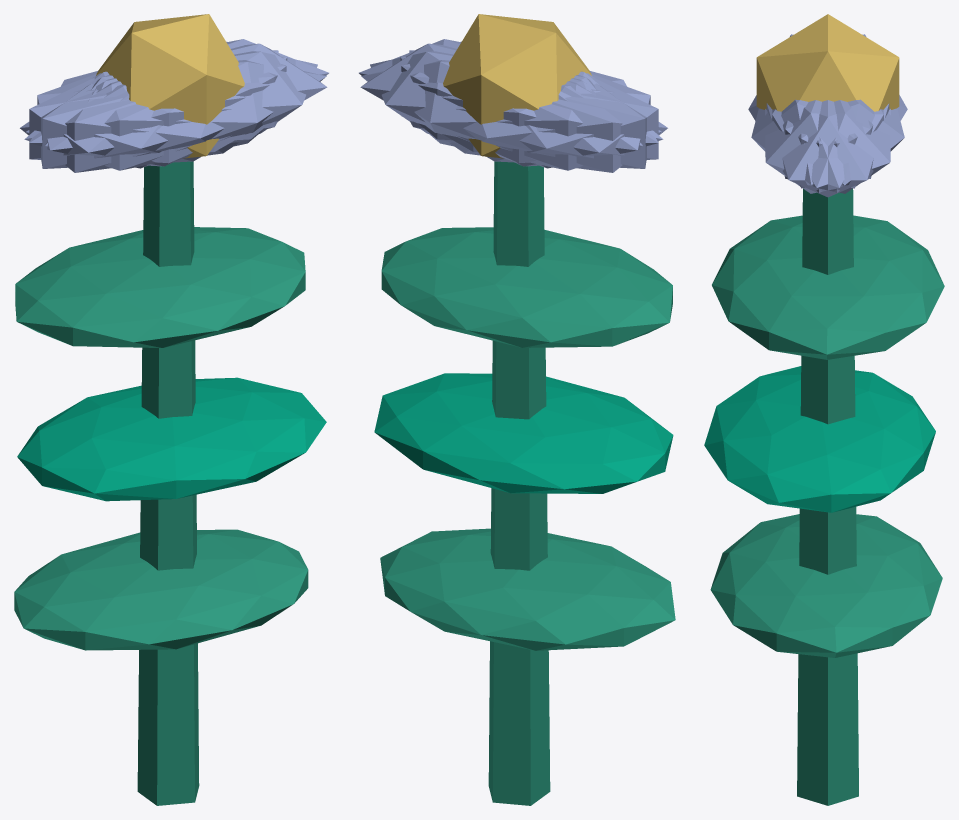
The model's file is sterculia-foetida.glb.
3 views of the same model, side by side, from view 1: azimuth 30°, elevation 25°; view 2: azimuth 150°, elevation 25°; view 3: azimuth 270°, elevation 25° (orthographic).
Visible parts, largest first — view 1: leaf1, leaf2, leaf0, stem, center, petal1, petal6, petal2, petal5, petal7, petal0, petal4 (+2 smaller); view 2: leaf2, leaf0, leaf1, stem, center, petal8, petal3, petal7, petal4, petal2, petal0, petal5 (+2 smaller); view 3: leaf2, leaf1, leaf0, stem, center, petal0, petal4, petal5, petal1, petal8.
Boxes of the visible parts, x1,y1,x2,y2 form: leaf1: (17, 377, 326, 501); leaf2: (15, 227, 305, 347); leaf0: (14, 529, 308, 650); stem: (137, 161, 199, 805); center: (96, 14, 244, 158); petal1: (24, 60, 326, 170); petal6: (20, 73, 238, 172); petal2: (41, 50, 278, 168); petal5: (45, 51, 317, 163); petal7: (29, 56, 287, 166); petal0: (95, 43, 327, 152); petal4: (26, 39, 328, 143); leaf2: (381, 227, 672, 347); leaf0: (380, 528, 675, 650); leaf1: (374, 373, 673, 493); stem: (488, 161, 550, 805); center: (443, 14, 591, 158); petal8: (361, 60, 663, 170); petal3: (449, 73, 667, 172); petal7: (409, 50, 646, 168); petal4: (370, 51, 642, 163); petal2: (400, 56, 658, 166); petal0: (360, 43, 592, 152); petal5: (359, 39, 661, 143); leaf2: (712, 215, 944, 359); leaf1: (704, 366, 935, 512); leaf0: (710, 514, 942, 657); stem: (797, 189, 858, 805); center: (756, 14, 899, 111); petal0: (766, 100, 889, 197); petal4: (772, 100, 890, 193); petal5: (765, 100, 883, 193); petal1: (751, 99, 873, 185); petal8: (783, 99, 904, 185).
Bounding box in the file's own units: 0.1498 × 0.3594 × 0.1032.
